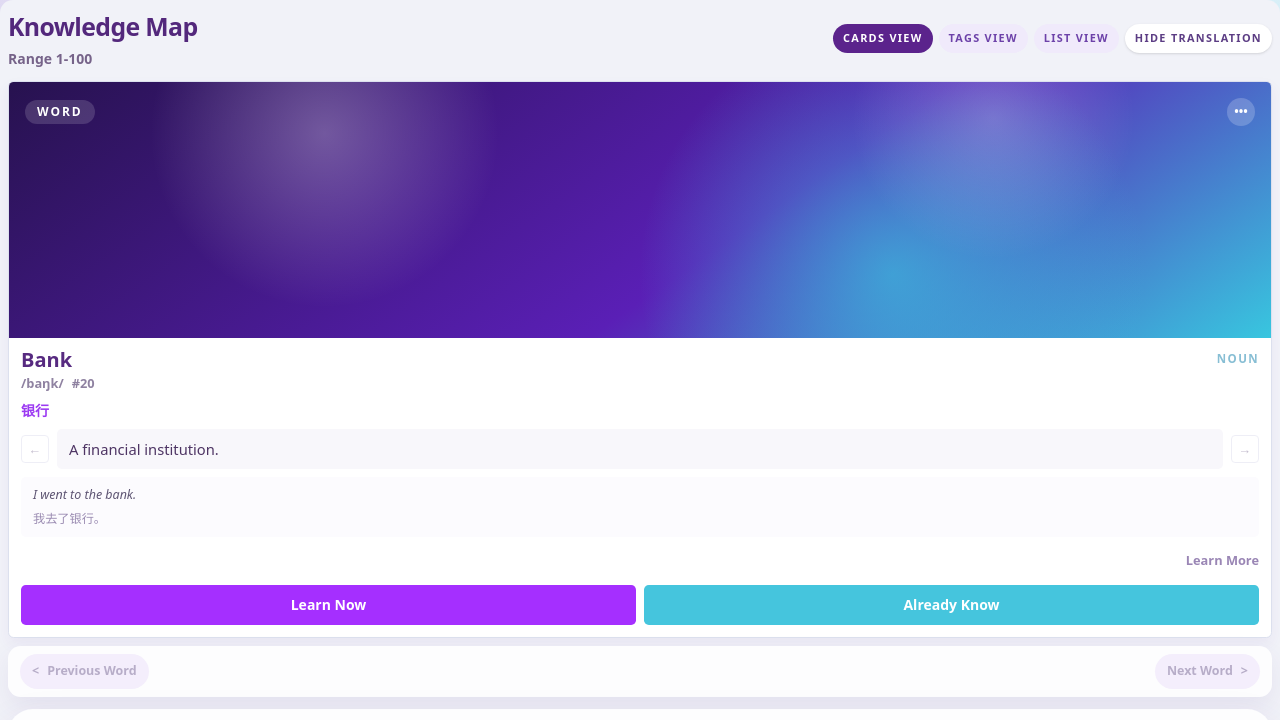
Test: KnowledgeMapRangeDetail › shows bilingual examples in cards view and lets users hide translations there
This screenshot has width=1280, height=720.
Expected: the text "A financial institution." is shown, [69,439,219,459]
Expected: the text "银行" is shown, [21,401,49,420]
Click the button "Hide translation": (1198,39) [1125,24,1272,53]
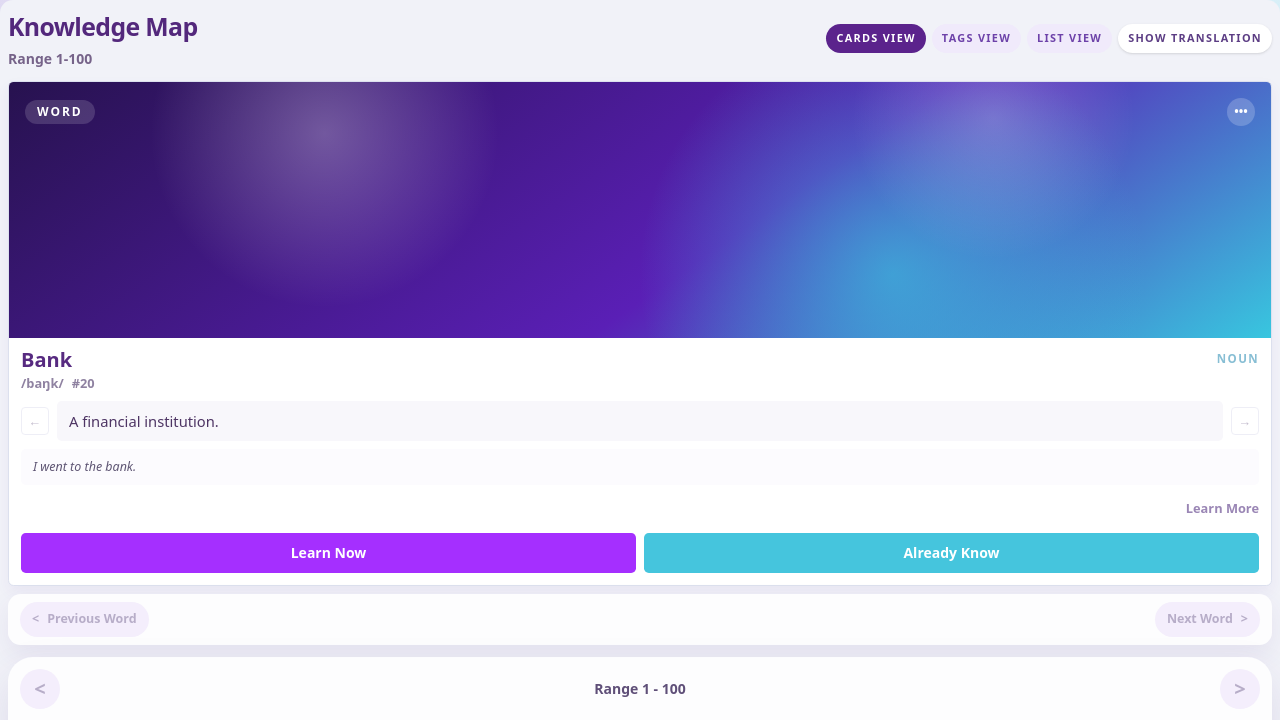
Expected: the text "I went to the bank." is shown, [33,458,136,475]
Result: the text "银行" is gone
Result: the text "我去了银行。" is gone
